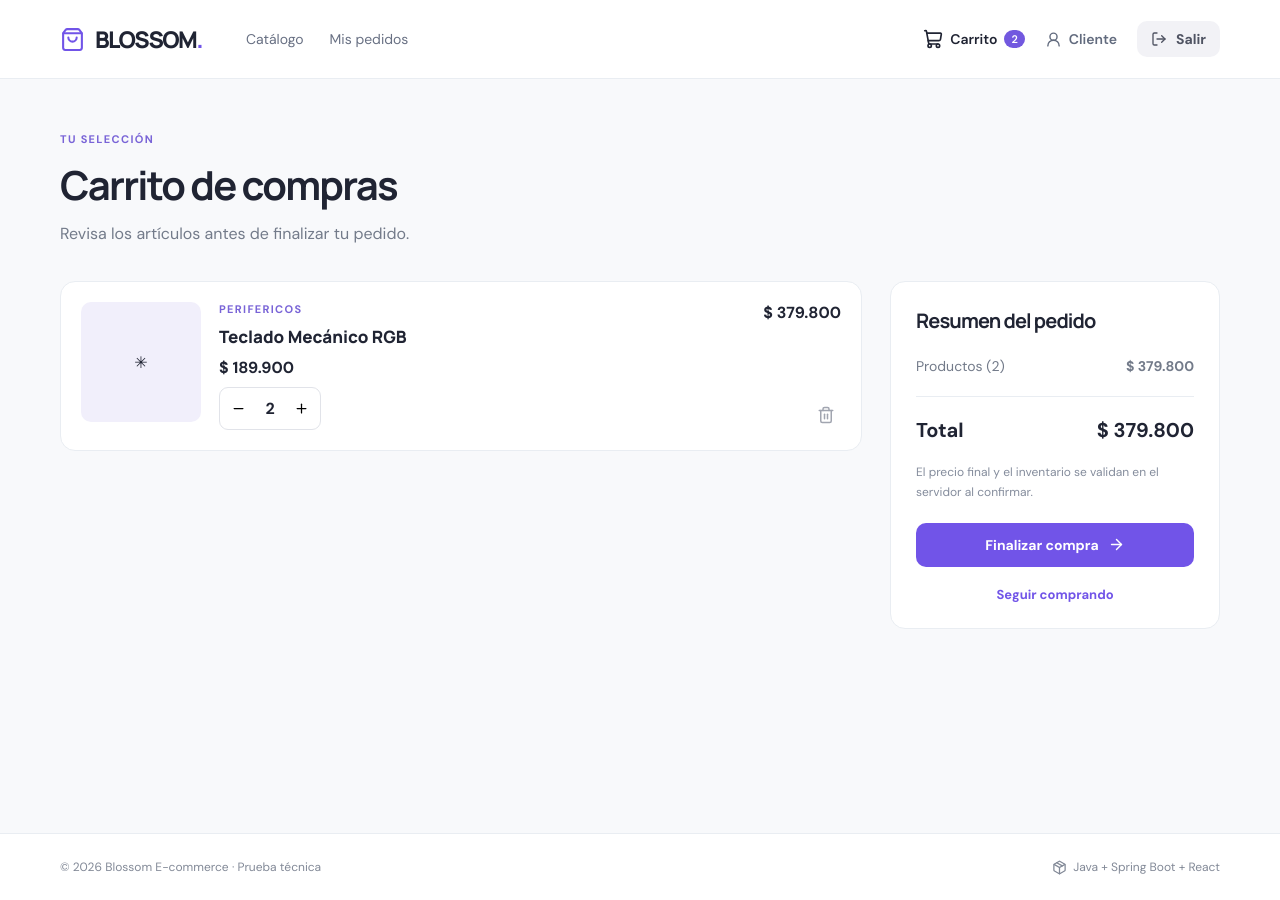
Test: Detalle, carrito y checkout › finaliza la compra y envía solamente IDs y cantidades al servidor
Click the button "Finalizar compra". click: (1055, 545)
box: [916, 523, 1194, 567]
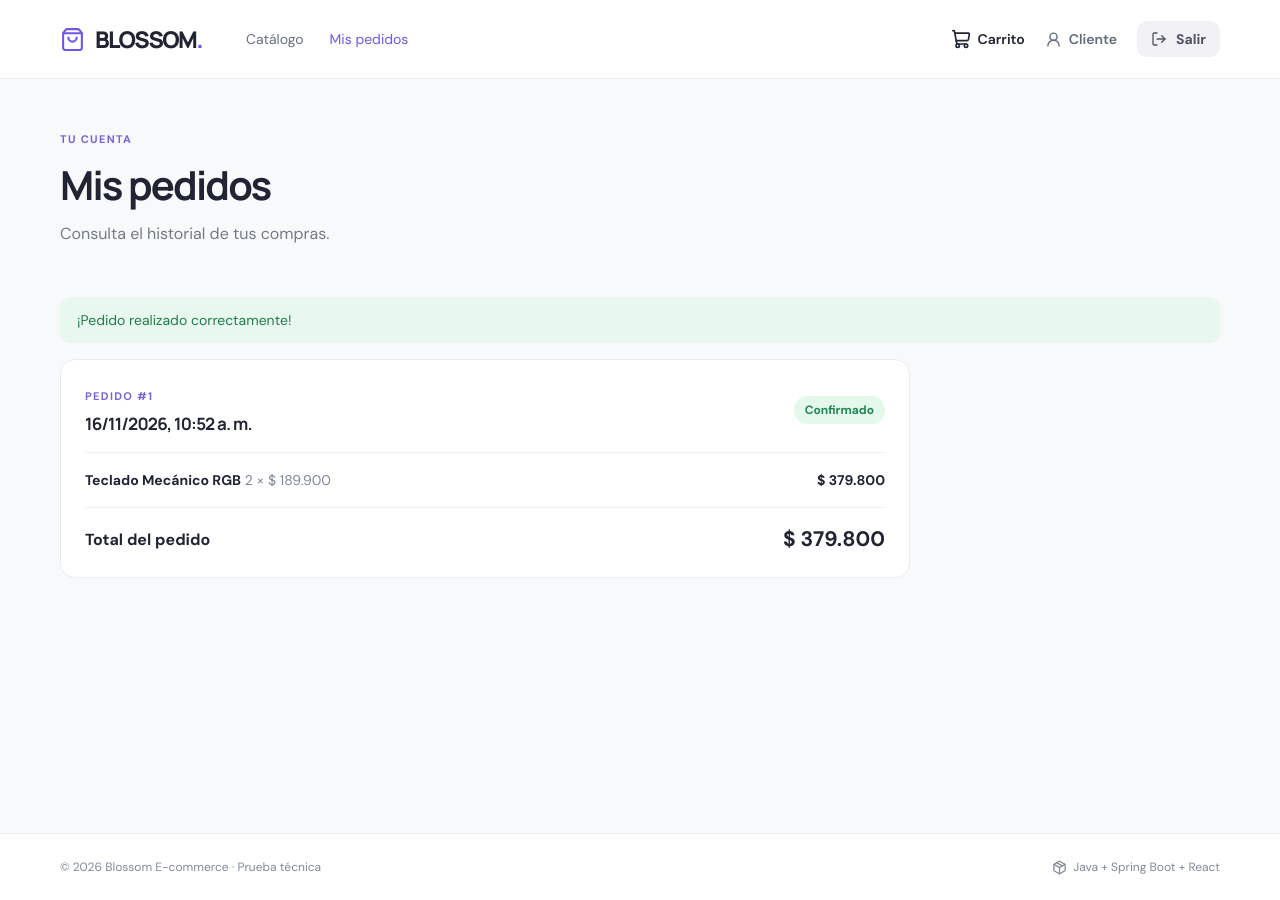
Expected: the text "¡Pedido realizado correctamente!" is shown, [60, 297, 1220, 343]
